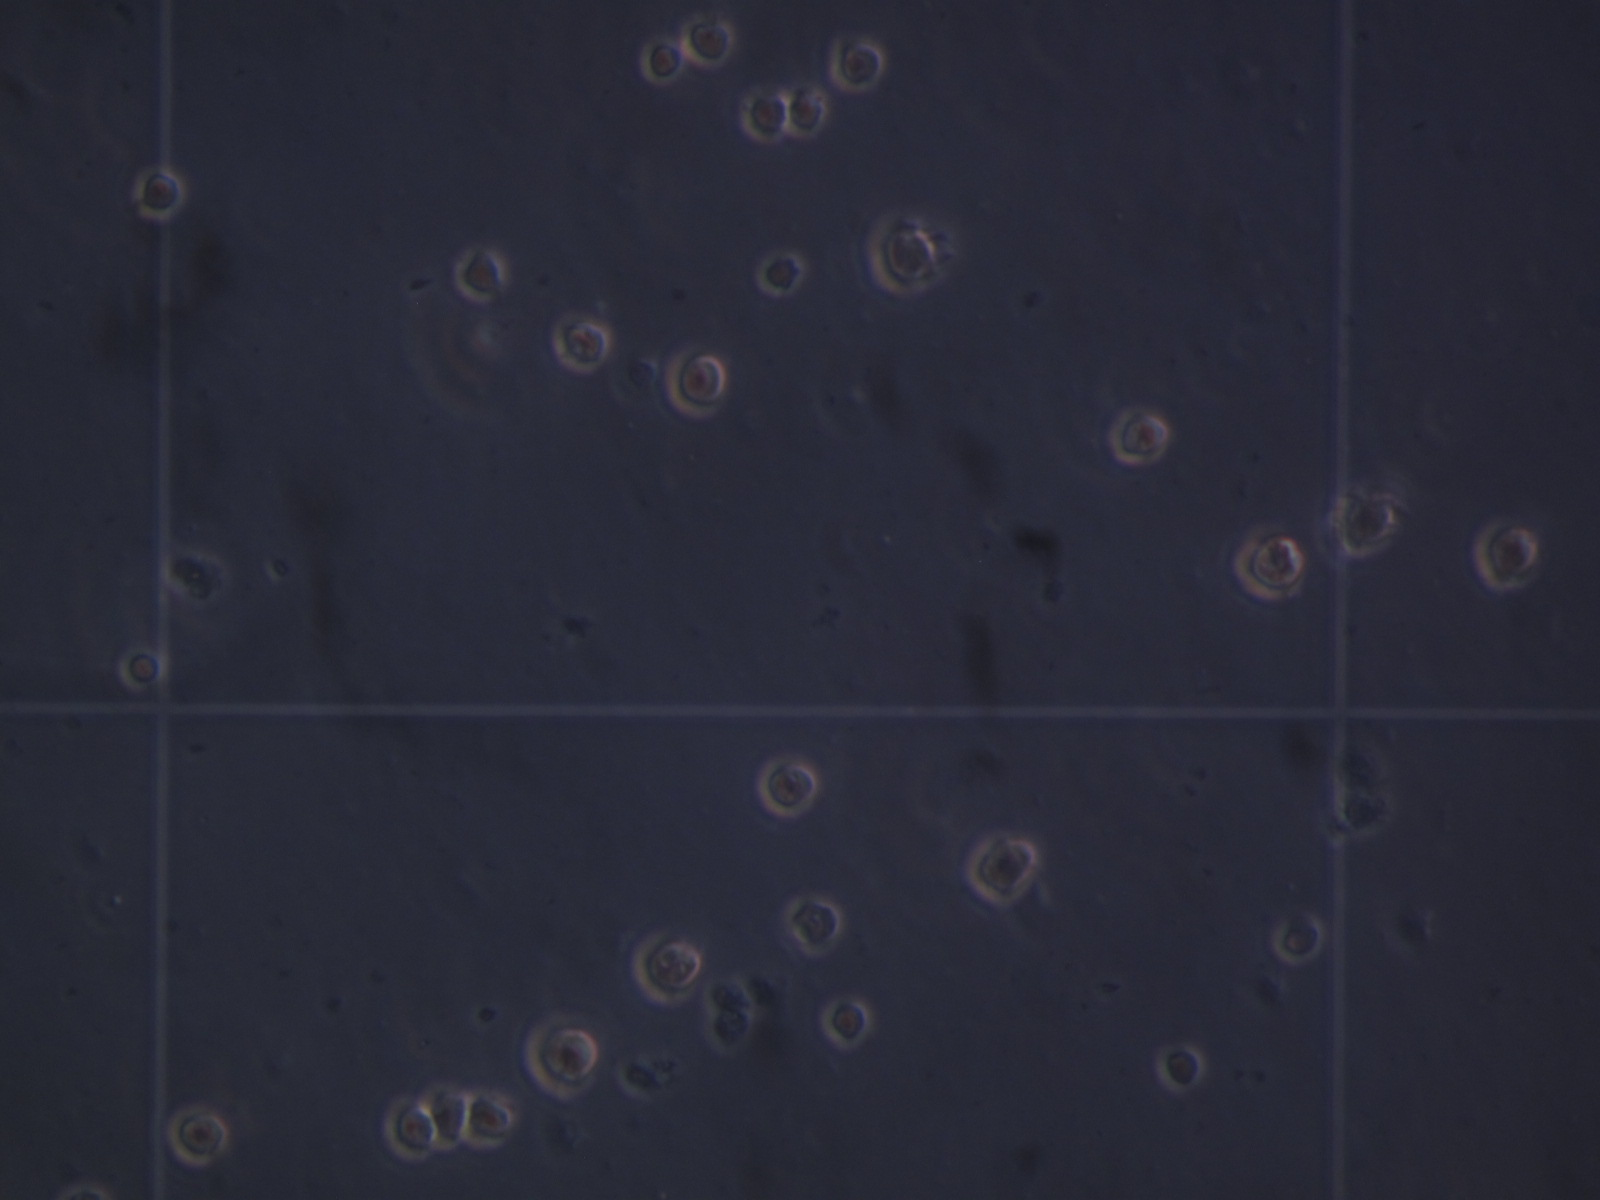hemo: (523, 1013, 597, 1103), (864, 211, 937, 297), (964, 828, 1036, 908), (1468, 516, 1540, 592), (1232, 531, 1306, 603), (634, 928, 702, 1005), (664, 345, 726, 416), (753, 755, 818, 821), (166, 1107, 229, 1166), (382, 1099, 437, 1165), (1337, 493, 1396, 553), (549, 313, 610, 372), (786, 894, 844, 955), (1110, 408, 1170, 466), (423, 1084, 470, 1152), (131, 165, 188, 219), (464, 1088, 513, 1150), (452, 246, 504, 303), (829, 38, 883, 89), (740, 84, 787, 142), (680, 16, 734, 67), (823, 996, 871, 1051), (1274, 915, 1324, 967), (786, 81, 829, 141), (637, 37, 688, 87), (1157, 1042, 1204, 1093), (757, 247, 804, 299), (118, 645, 168, 692)
